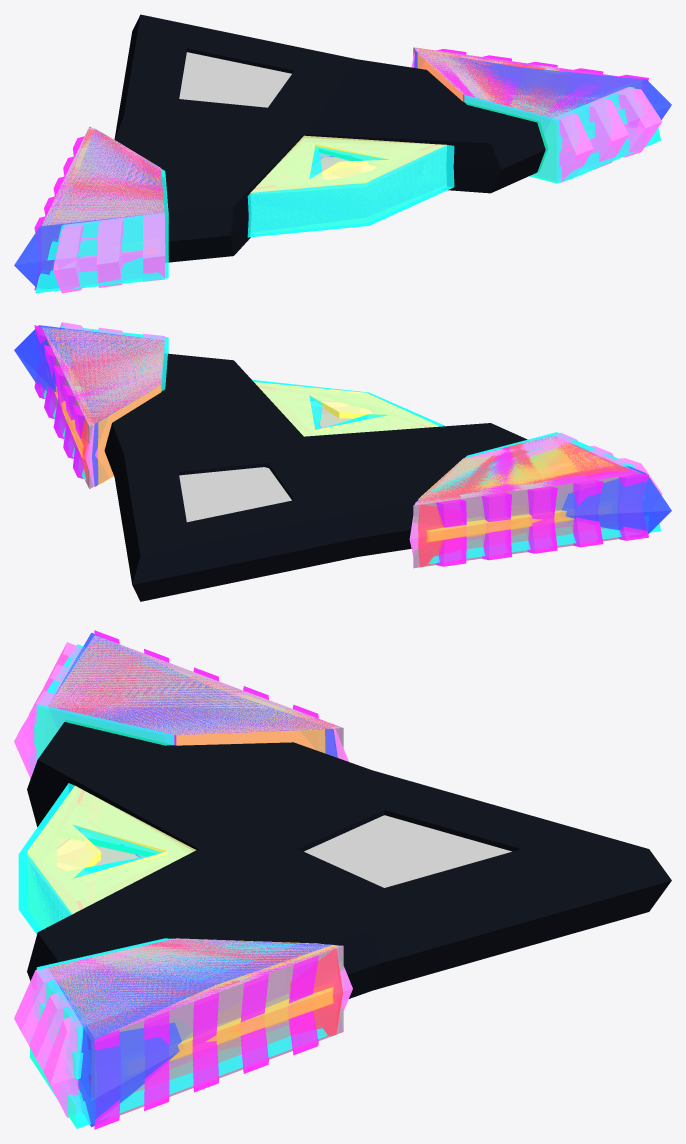
The picture shows the model from 3 angles, top to bottom: view 1: azimuth 30°, elevation 25°; view 2: azimuth 150°, elevation 25°; view 3: azimuth 270°, elevation 25°; orthographic projection. The views are drawn at different scales.
Parts seen in each view (by area): view 1: GG, shotAbility_3, shotAbility_6, moveAbility_4, shotAbility_2, shotAbility_blank, shotAbility_1, shotAbility_5, moveAbility_3, Plane, moveAbility_blank, shotAbility_4; view 2: GG, shotAbility_blank, shotAbility_5, shotAbility_1, shotAbility_2, shotAbility_4, shotAbility_3, shotAbility_6, moveAbility_3, moveAbility_4, Plane, moveAbility_blank; view 3: GG, shotAbility_blank, shotAbility_2, shotAbility_5, shotAbility_3, shotAbility_1, shotAbility_6, moveAbility_4, moveAbility_3, Plane, shotAbility_4, moveAbility_blank.
Part boxes in pixels (left/top/right/bottom): GG: left=114, top=14, right=547, bottom=262; shotAbility_3: left=53, top=49, right=662, bottom=293; shotAbility_6: left=35, top=82, right=660, bottom=293; moveAbility_4: left=247, top=138, right=454, bottom=237; shotAbility_2: left=14, top=50, right=671, bottom=288; shotAbility_blank: left=42, top=47, right=640, bottom=270; shotAbility_1: left=53, top=48, right=586, bottom=222; shotAbility_5: left=34, top=47, right=648, bottom=290; moveAbility_3: left=250, top=135, right=446, bottom=193; Plane: left=179, top=52, right=291, bottom=107; moveAbility_blank: left=251, top=152, right=438, bottom=231; shotAbility_4: left=56, top=49, right=570, bottom=252; GG: left=104, top=353, right=527, bottom=601; shotAbility_blank: left=42, top=327, right=640, bottom=568; shotAbility_5: left=34, top=325, right=648, bottom=567; shotAbility_1: left=52, top=330, right=628, bottom=567; shotAbility_2: left=14, top=325, right=671, bottom=536; shotAbility_4: left=54, top=334, right=614, bottom=542; shotAbility_3: left=60, top=322, right=662, bottom=556; shotAbility_6: left=40, top=325, right=660, bottom=563; moveAbility_3: left=254, top=382, right=439, bottom=436; moveAbility_4: left=252, top=380, right=445, bottom=435; Plane: left=179, top=467, right=291, bottom=522; moveAbility_blank: left=312, top=406, right=359, bottom=428; GG: left=27, top=720, right=671, bottom=998; shotAbility_blank: left=48, top=635, right=343, bottom=1118; shotAbility_2: left=49, top=632, right=337, bottom=1127; shotAbility_5: left=49, top=630, right=342, bottom=1129; shotAbility_3: left=14, top=642, right=352, bottom=1117; shotAbility_1: left=48, top=643, right=342, bottom=1080; shotAbility_6: left=30, top=644, right=327, bottom=1128; moveAbility_4: left=18, top=783, right=192, bottom=934; moveAbility_3: left=27, top=785, right=196, bottom=914; Plane: left=304, top=815, right=511, bottom=887; shotAbility_4: left=48, top=653, right=338, bottom=1074; moveAbility_blank: left=31, top=838, right=142, bottom=920.
Bounding box in the file's own units: 268 × 24.35 × 168.
